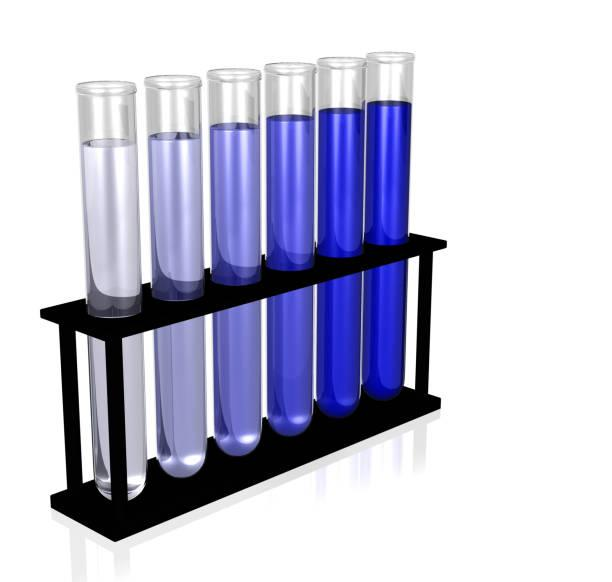Test tube: (82, 95, 143, 504), (148, 69, 203, 490), (263, 57, 316, 426), (212, 67, 258, 470), (368, 54, 412, 419), (325, 52, 357, 421)
